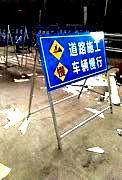sign: (41, 35, 107, 84)
